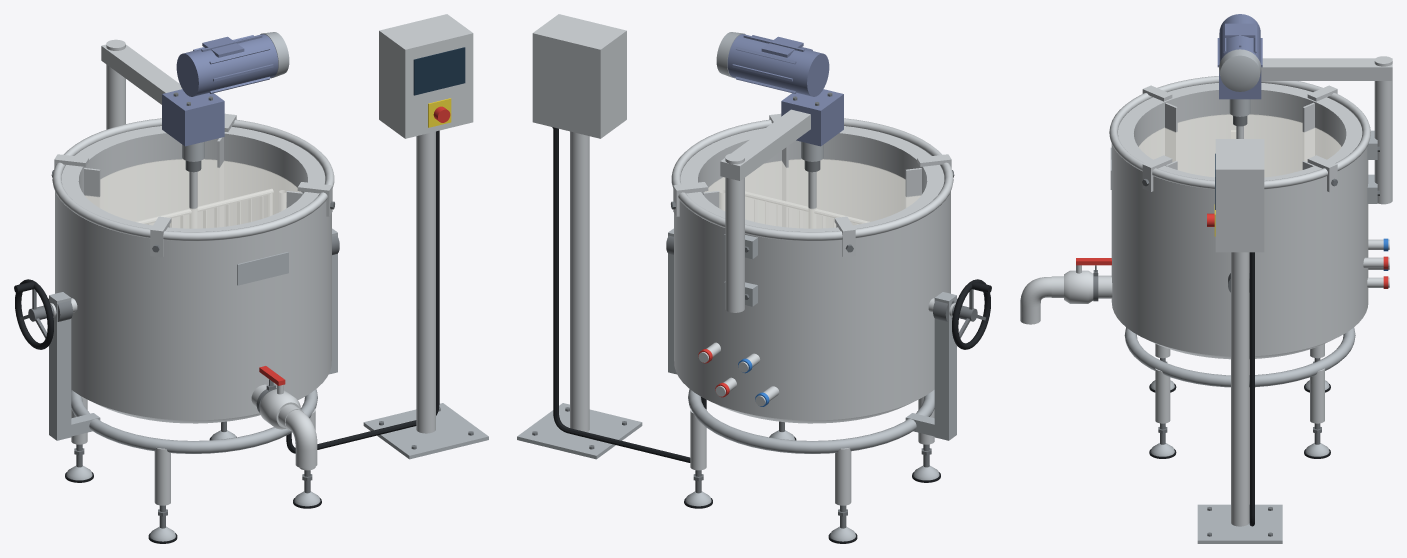
The model's file is mehrzweckerhitzer.glb.
3 views of the same model, side by side, from view 1: azimuth 30°, elevation 25°; view 2: azimuth 150°, elevation 25°; view 3: azimuth 270°, elevation 25° (orthographic). The views are drawn at different scales.
Parts seen in each view (by area): view 1: kesselwand, milchspiegel, steuerkasten, staender, kesselrand, kesseldeckblech, motor, rahmenring, staenderplatte, getriebe, lagerbock_-1, ausleger (+12 smaller); view 2: kesselwand, steuerkasten, milchspiegel, staender, kesselrand, kesseldeckblech, rahmenring, motor, staenderplatte, lagerbock_-1, saeule, kabel (+7 smaller); view 3: kesselwand, milchspiegel, steuerkasten, staender, kesselrand, kesseldeckblech, rahmenring, ausleger, staenderplatte, saeule, kabel, lueferhaube (+8 smaller).
Part boxes in pixels (x1=…): kesselwand: x1=55, y1=134, x2=331, y2=423; milchspiegel: x1=85, y1=159, x2=301, y2=228; steuerkasten: x1=379, y1=14, x2=473, y2=138; staender: x1=416, y1=131, x2=435, y2=433; kesselrand: x1=52, y1=118, x2=334, y2=241; kesseldeckblech: x1=61, y1=126, x2=325, y2=231; motor: x1=176, y1=34, x2=278, y2=96; rahmenring: x1=71, y1=389, x2=317, y2=453; staenderplatte: x1=363, y1=403, x2=488, y2=459; getriebe: x1=162, y1=89, x2=224, y2=146; lagerbock_-1: x1=49, y1=292, x2=71, y2=440; ausleger: x1=101, y1=44, x2=182, y2=104; kesselwand: x1=674, y1=134, x2=950, y2=423; steuerkasten: x1=532, y1=14, x2=626, y2=138; milchspiegel: x1=704, y1=159, x2=920, y2=228; staender: x1=570, y1=131, x2=589, y2=432; kesselrand: x1=671, y1=118, x2=953, y2=241; kesseldeckblech: x1=680, y1=126, x2=944, y2=231; rahmenring: x1=688, y1=389, x2=934, y2=453; motor: x1=727, y1=34, x2=829, y2=96; staenderplatte: x1=517, y1=403, x2=642, y2=459; lagerbock_-1: x1=934, y1=292, x2=956, y2=440; saeule: x1=725, y1=153, x2=744, y2=312; kabel: x1=553, y1=129, x2=706, y2=462; kesselwand: x1=1111, y1=91, x2=1368, y2=359; milchspiegel: x1=1138, y1=114, x2=1341, y2=177; steuerkasten: x1=1215, y1=139, x2=1264, y2=252; staender: x1=1231, y1=252, x2=1249, y2=526; kesselrand: x1=1109, y1=76, x2=1370, y2=189; kesseldeckblech: x1=1118, y1=83, x2=1362, y2=180; rahmenring: x1=1124, y1=327, x2=1355, y2=387; ausleger: x1=1261, y1=58, x2=1392, y2=80; staenderplatte: x1=1197, y1=504, x2=1282, y2=543; saeule: x1=1374, y1=56, x2=1392, y2=204; kabel: x1=1249, y1=252, x2=1254, y2=526; lueferhaube: x1=1219, y1=49, x2=1261, y2=91.
Size of the model in its own units: 1.58 by 1.47 by 1.23.
